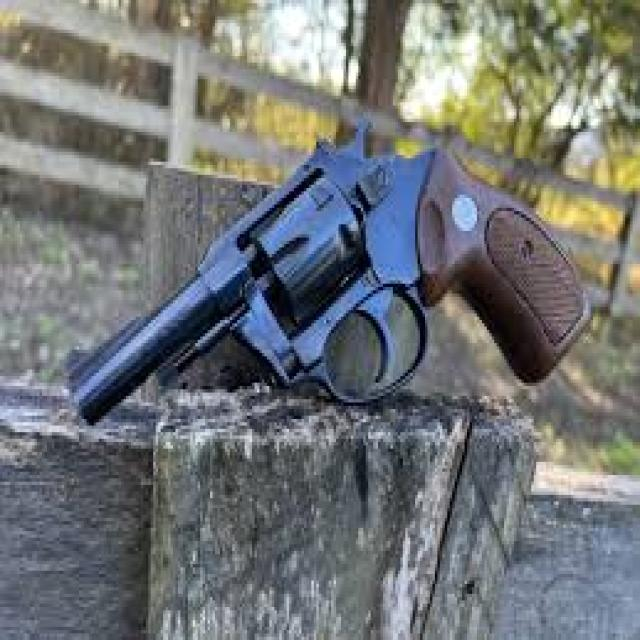Gun: (65, 102, 596, 435)
